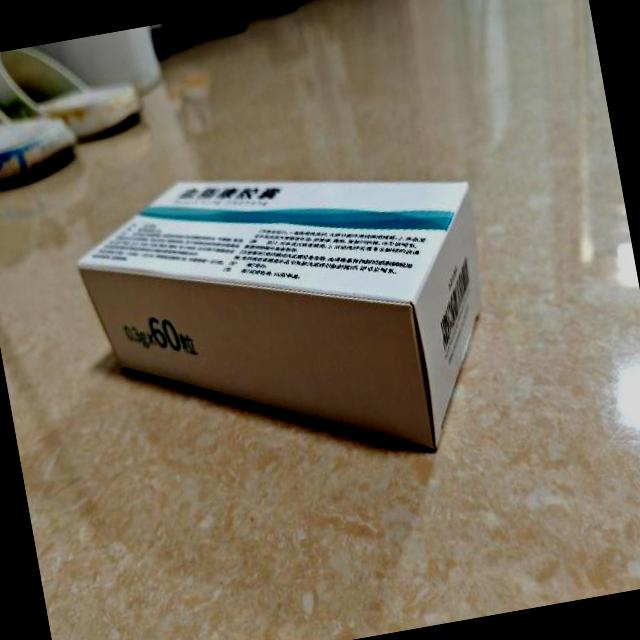box: (65, 130, 513, 505)
